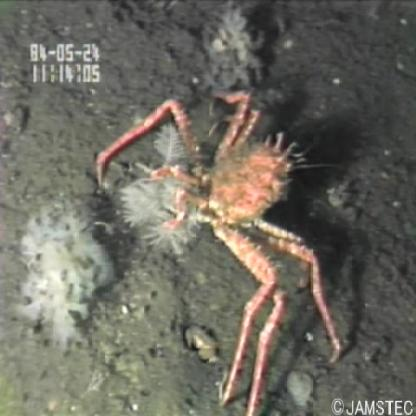Bio: (89, 84, 348, 416)
